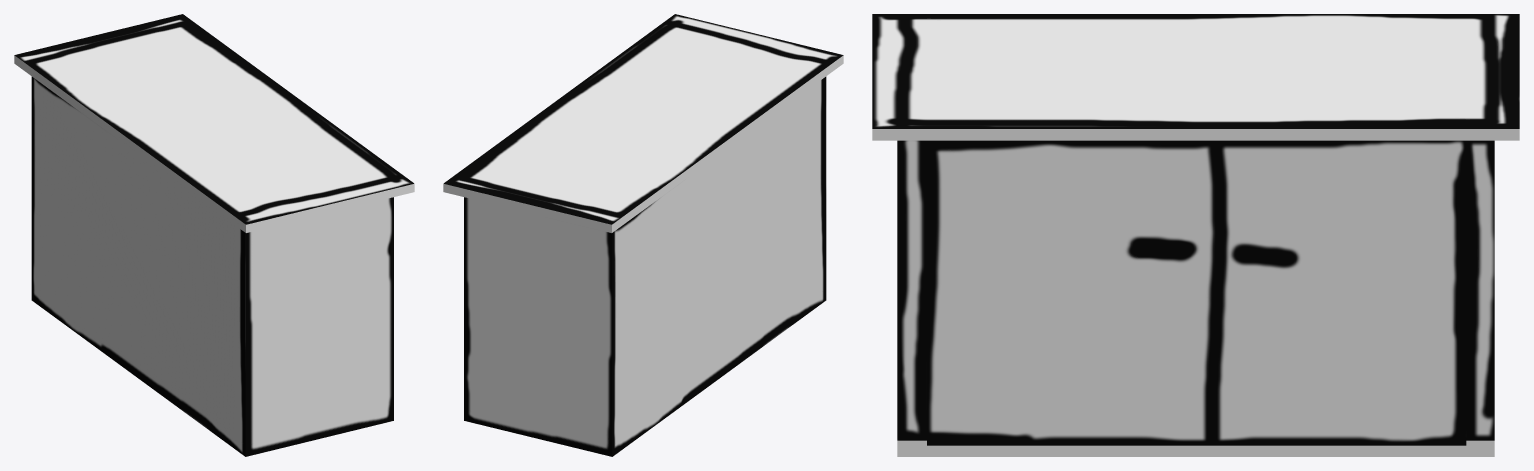
The model's file is bench.fbx.
The picture shows the model from 3 angles, left to right: view 1: azimuth 30°, elevation 25°; view 2: azimuth 150°, elevation 25°; view 3: azimuth 270°, elevation 25°; orthographic projection. The views are drawn at different scales.
Parts seen in each view (by area): view 1: Cube; view 2: Cube; view 3: Cube.
Boxes of the visible parts, x1,y1,x2,y2 form: Cube: [14, 14, 414, 456]; Cube: [443, 14, 843, 456]; Cube: [872, 14, 1519, 456].
Bounding box in the file's own units: 228 × 310 × 542.
